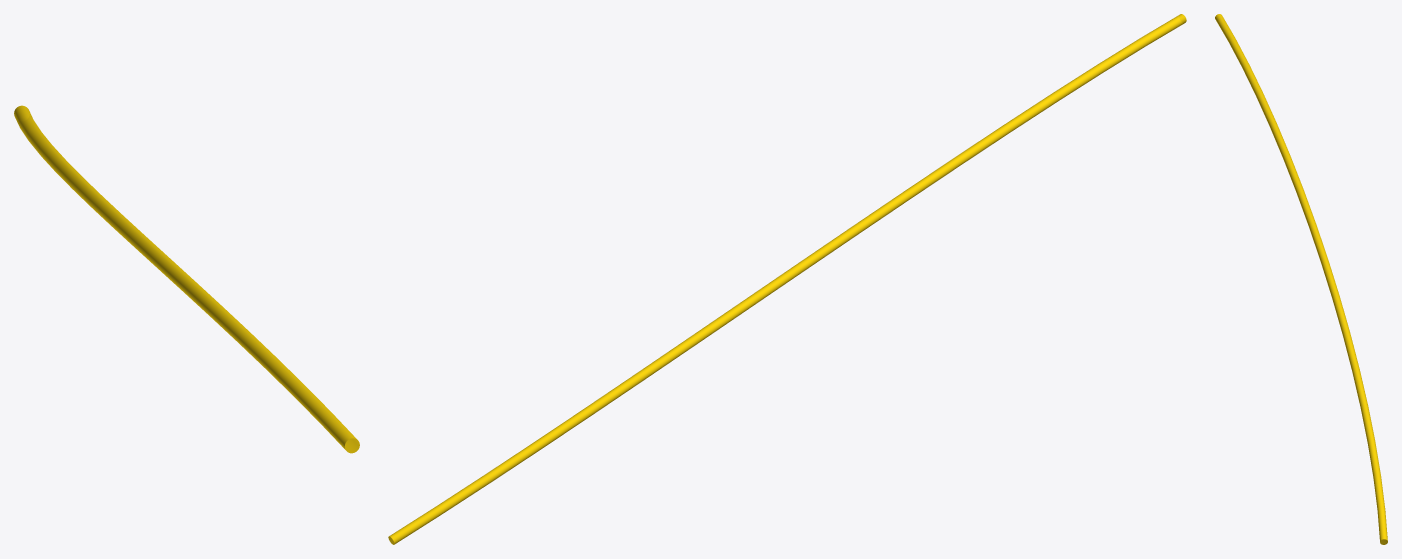
Rendered from Event_421115418_track_199.fbx.
3 views of the same model, side by side, from view 1: azimuth 90°, elevation 25°; view 2: azimuth 210°, elevation 25°; view 3: azimuth 270°, elevation 25° (orthographic). The views are drawn at different scales.
Visible parts, largest first — view 1: Model; view 2: Model; view 3: Model.
Boxes of the visible parts, left/top/right/bottom form: Model: left=14, top=105, right=359, bottom=453; Model: left=388, top=14, right=1186, bottom=544; Model: left=1215, top=14, right=1387, bottom=544.
Size of the model in its own units: 4.14 by 1.04 by 0.8737.
